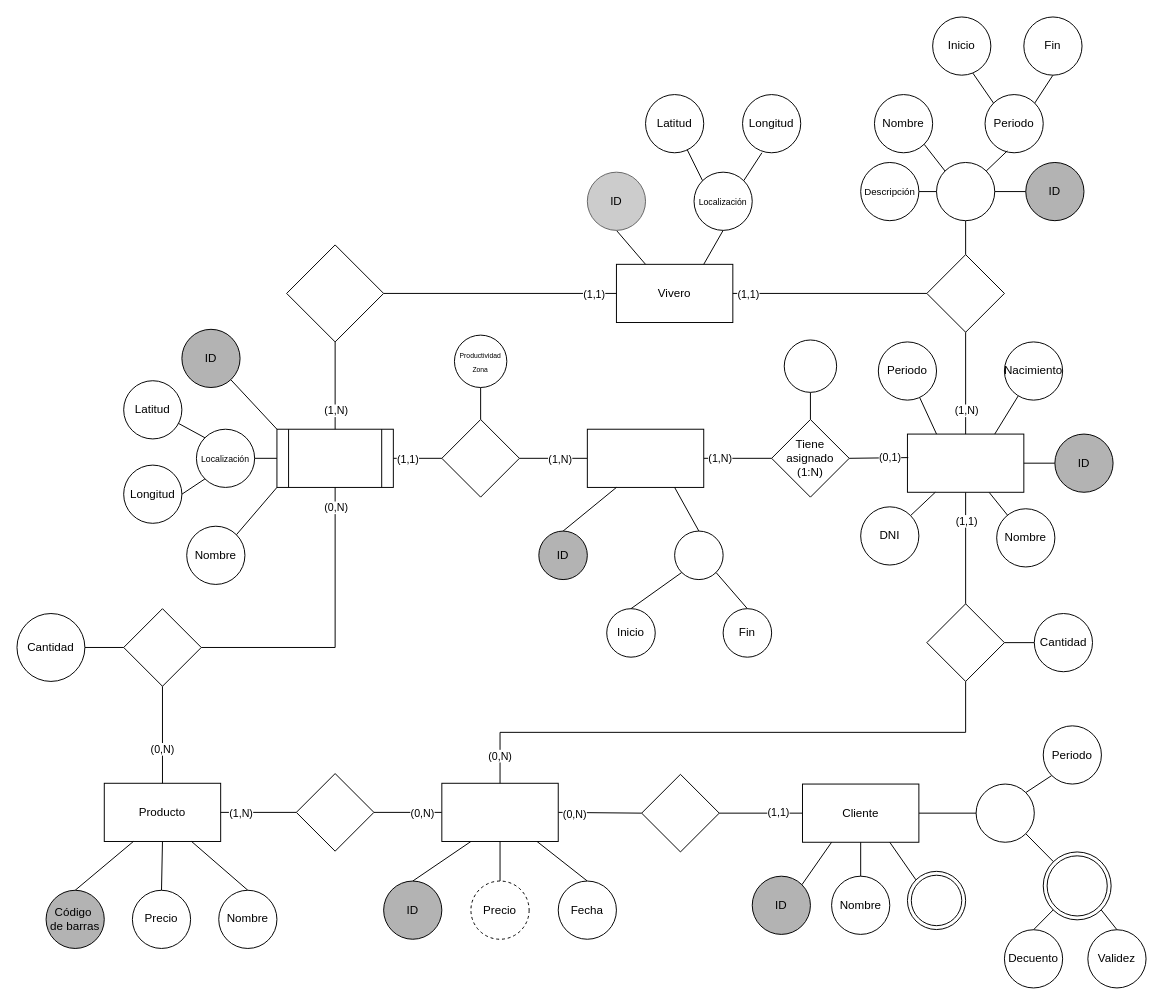
Image size: 1163x1005. Some labels were removed from this diagram. Each missing label, with the centre of its shape:
Asignado (1:N): the point at 965,293
Bonificaciones: the point at 1076,885
Correo: the point at 936,900
E Pertenece (1:N): the point at 335,293
Empleado: the point at 965,462
Está asignada (1:N): the point at 480,458
Gestiona (1:N): the point at 965,642
Incluye (N:M): the point at 334,812
Pedido: the point at 499,811
Plazo: the point at 698,555
Productividad Empleado: the point at 810,365
Puesto: the point at 965,191
Realiza (1:N): the point at 680,812
Tajinaste Plus: the point at 1004,812
Tarea: the point at 645,457
Tiene (N:M): the point at 162,647
Zona: the point at 334,457
